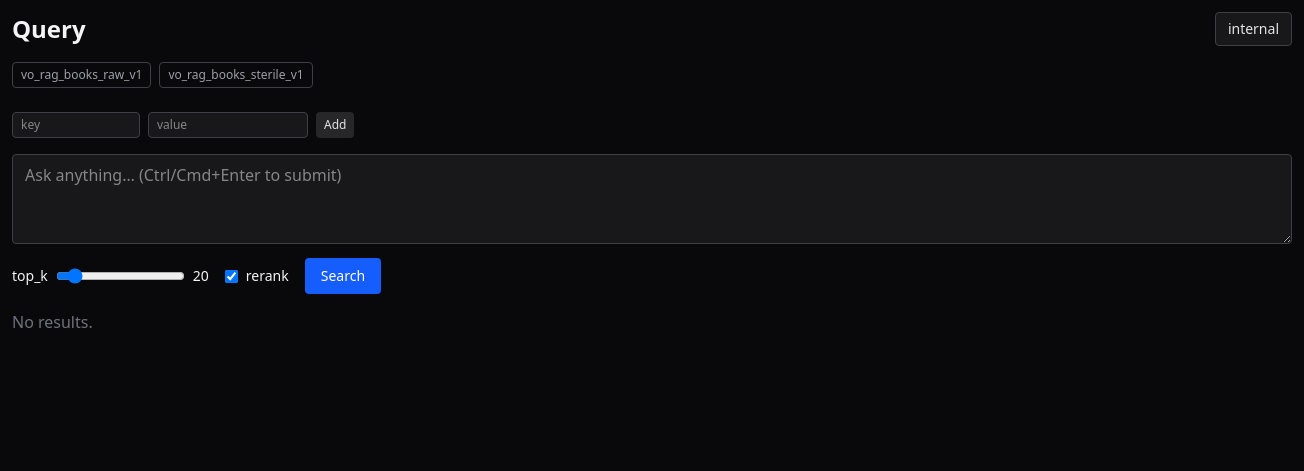
Query view › renders vlm_description as text fallback when image_ref is absent
Type "diagram" into the text box named "Query". click: [652, 199]
box: x1=12 y1=154 x2=1292 y2=244
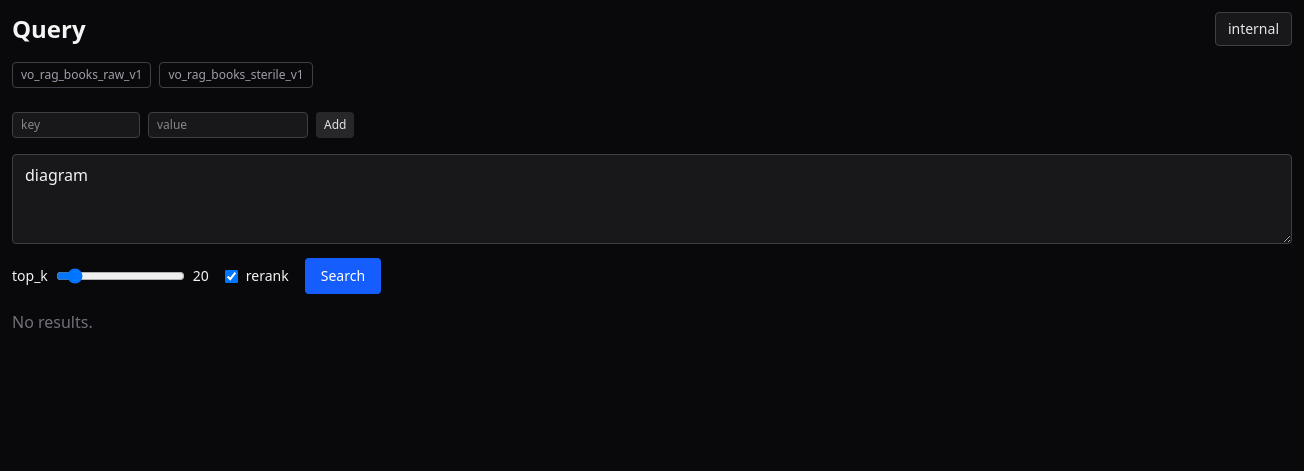
Click the button "Search". click: [343, 276]
box: x1=305 y1=258 x2=381 y2=294
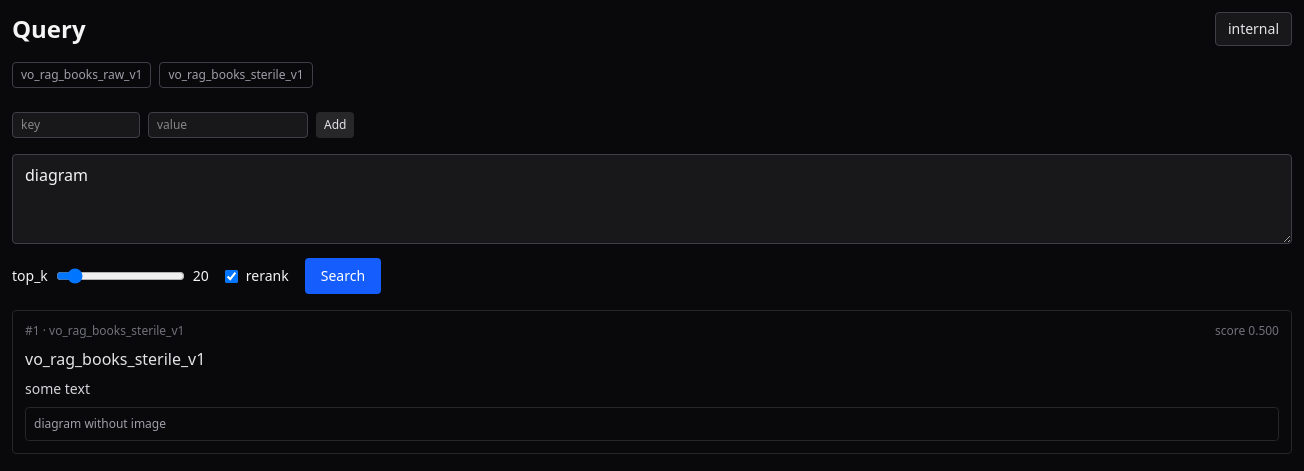
expect the text "diagram without image" is shown: met, box x1=25 y1=407 x2=1279 y2=441
